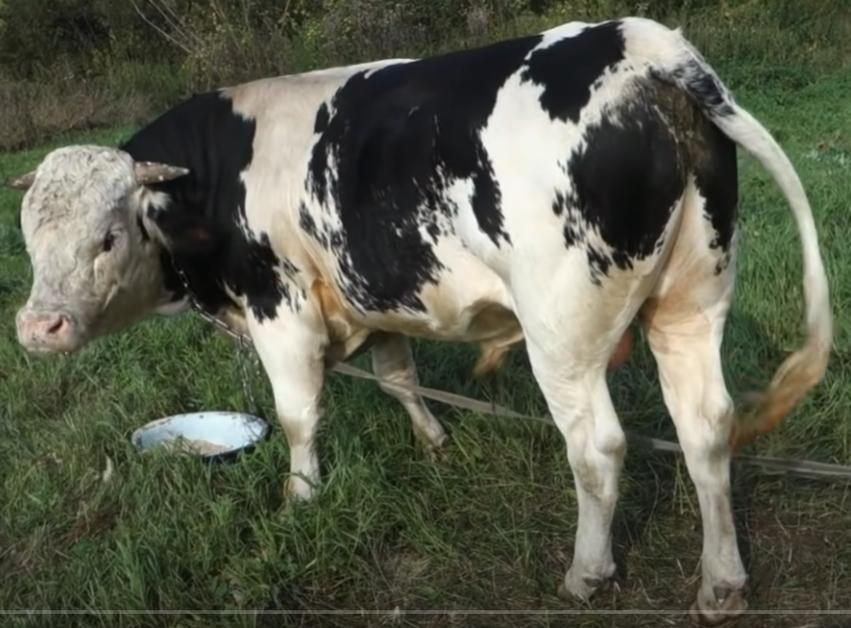cow: (17, 16, 833, 621)
